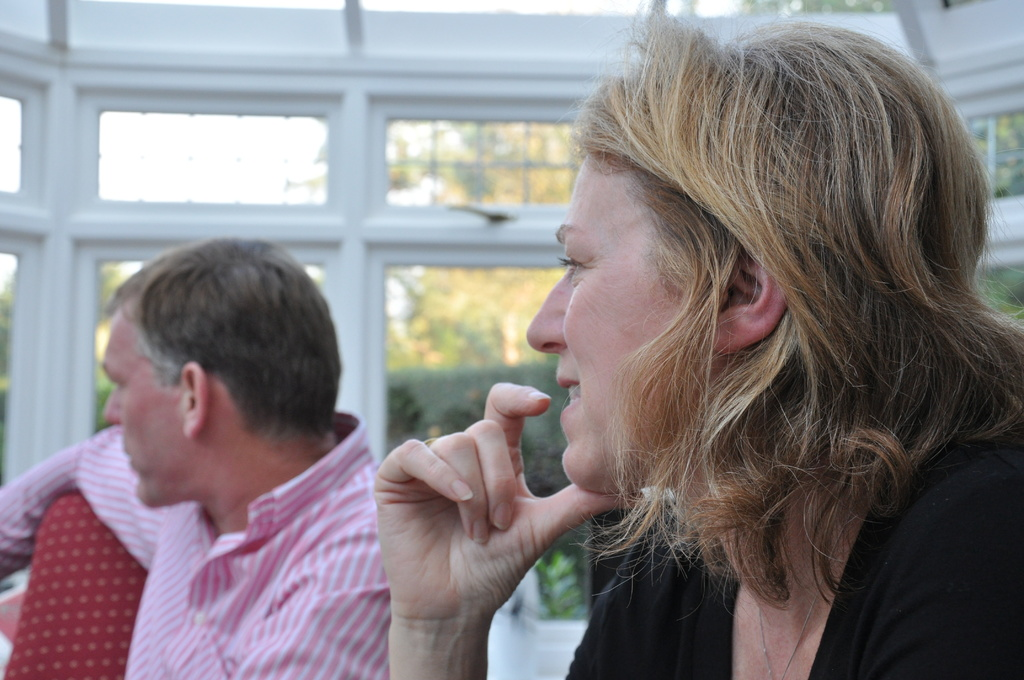Human-face: (529, 156, 725, 494), (102, 323, 189, 506)
